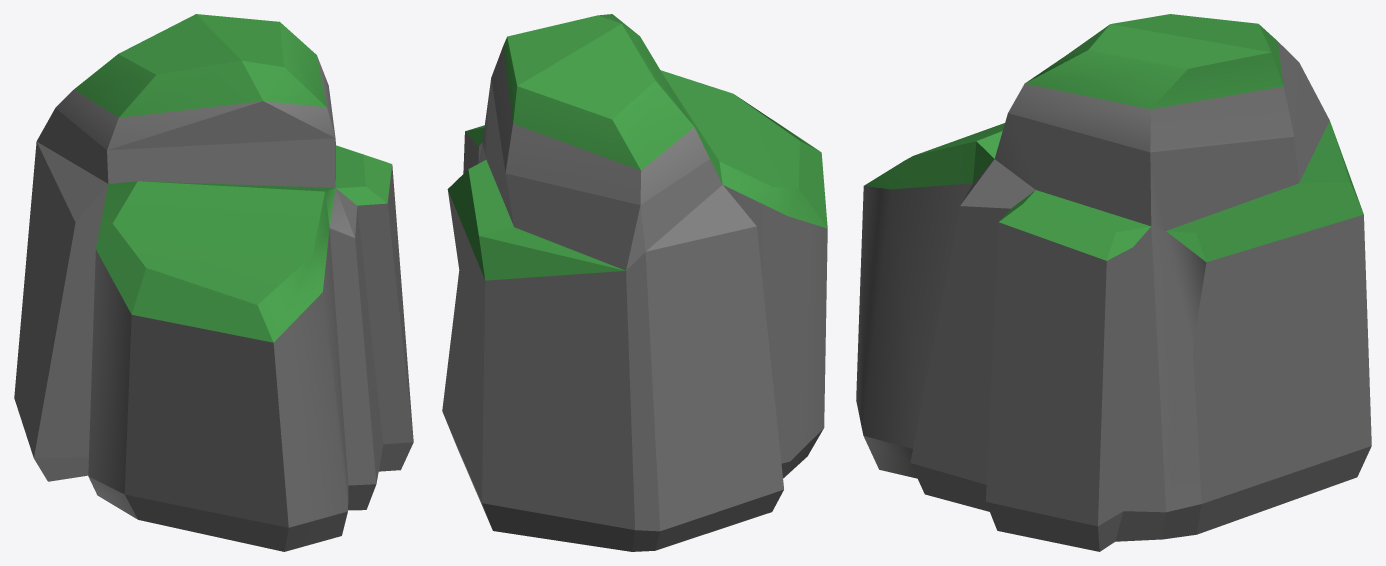
Rendered from Rock_B.fbx.
3 views of the same model, side by side, from view 1: azimuth 30°, elevation 25°; view 2: azimuth 150°, elevation 25°; view 3: azimuth 270°, elevation 25° (orthographic). The views are drawn at different scales.
Visible parts, largest first — view 1: Rock_B; view 2: Rock_B; view 3: Rock_B.
Part boxes in pixels (bbox=[...]): Rock_B: bbox=[14, 14, 413, 551]; Rock_B: bbox=[442, 14, 827, 551]; Rock_B: bbox=[856, 14, 1371, 551].
Bounding box in the file's own units: 554 × 620 × 646.
